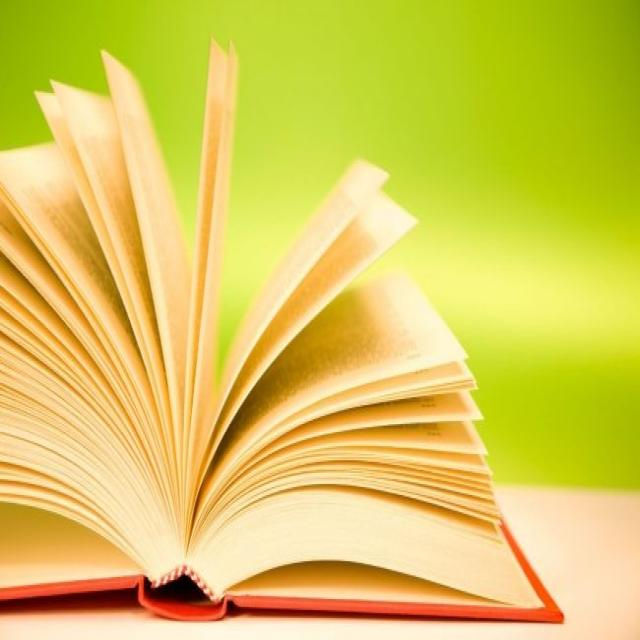book: (0, 28, 571, 640)
